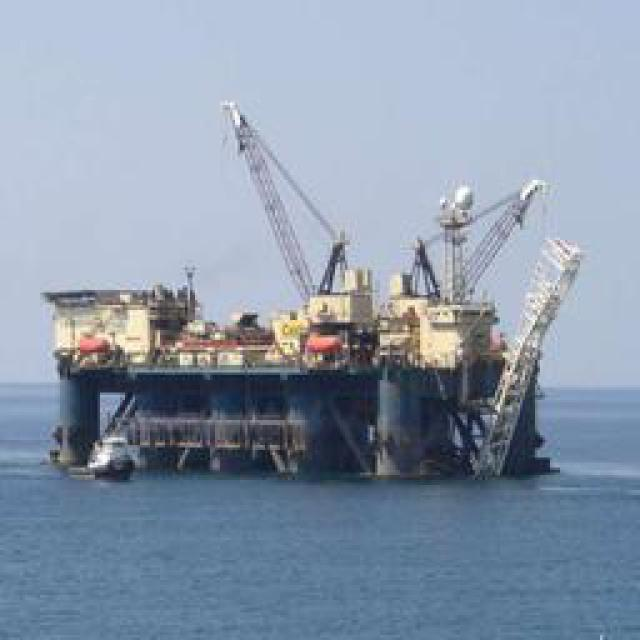Ship: (76, 100, 571, 483)
